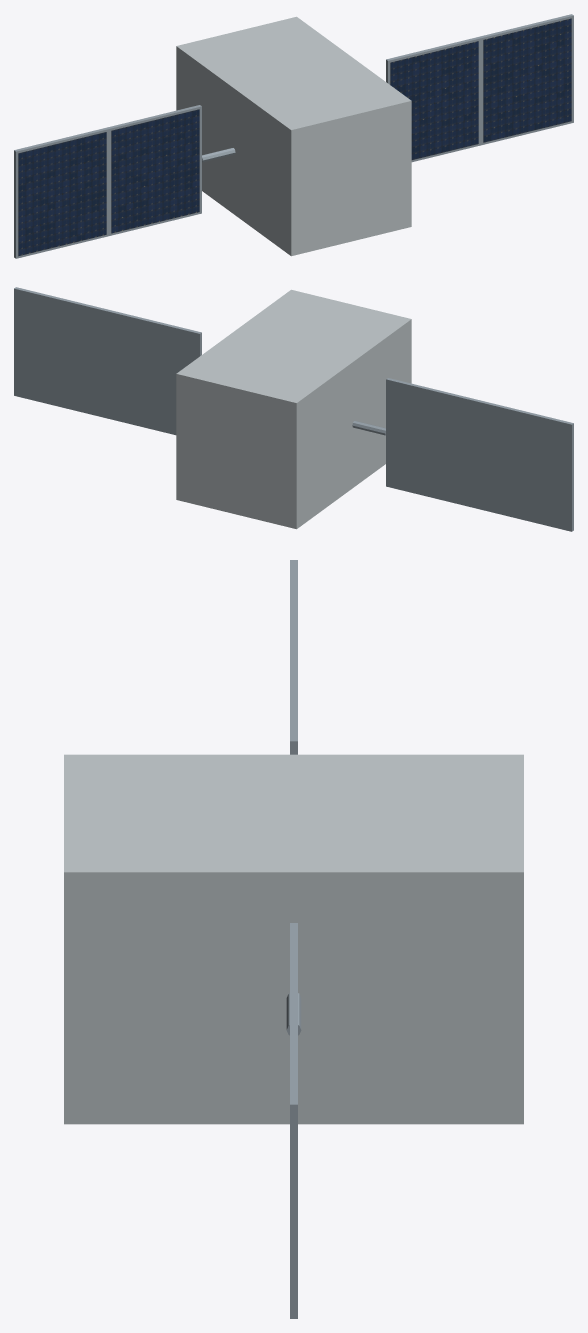
The model's file is ref-gro-21225.glb.
The picture shows the model from 3 angles, top to bottom: view 1: azimuth 30°, elevation 25°; view 2: azimuth 150°, elevation 25°; view 3: azimuth 270°, elevation 25°; orthographic projection. The views are drawn at different scales.
Parts seen in each view (by area): view 1: Spacecraft body, Photovoltaic laminates (×4), Array frame (×4); view 2: Spacecraft body, Array frame (×4); view 3: Spacecraft body, Array frame.
Part boxes in pixels (<box>): Spacecraft body: <box>176,16,411,256</box>; Photovoltaic laminates (×4): <box>18,18,571,256</box>; Array frame (×4): <box>14,14,573,258</box>; Spacecraft body: <box>176,289,411,529</box>; Array frame (×4): <box>14,287,573,531</box>; Spacecraft body: <box>64,754,523,1124</box>; Array frame: <box>290,1014,297,1318</box>.
Bounding box in the file's own units: 21.3 × 4.6 × 7.6.
3 materials, 1 textured.
